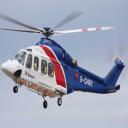helicopter: (2, 14, 127, 112)
